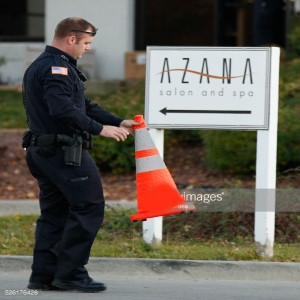traffic cone: (129, 114, 195, 224)
